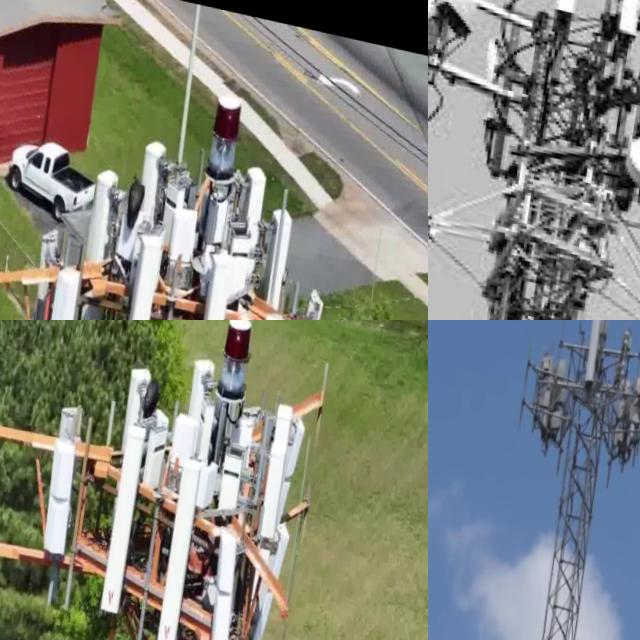GSM Antenna: (91, 405, 156, 624), (145, 440, 210, 640), (248, 393, 303, 536), (29, 423, 85, 560), (195, 516, 249, 640), (103, 220, 169, 320), (178, 239, 243, 320), (80, 156, 126, 270), (257, 199, 304, 310), (22, 217, 68, 320), (132, 123, 172, 216), (33, 258, 88, 320), (162, 198, 207, 270), (528, 341, 561, 437), (236, 155, 271, 229), (547, 349, 572, 433), (580, 320, 606, 388), (541, 0, 600, 24), (624, 370, 640, 443), (608, 0, 640, 36)
Microwave Antenna: (618, 116, 640, 209)
